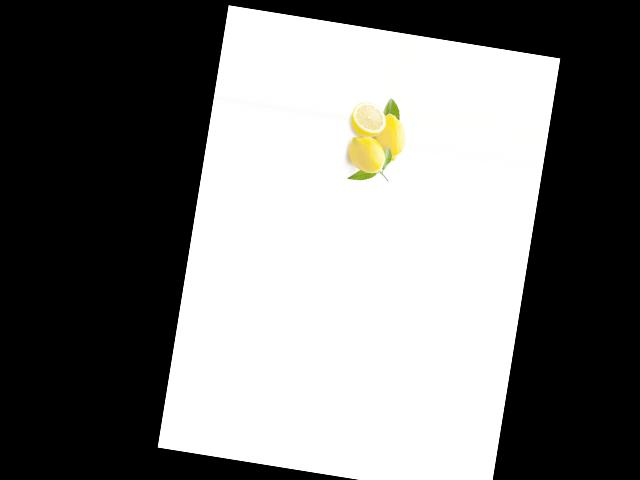lemon: (368, 113, 410, 164)
